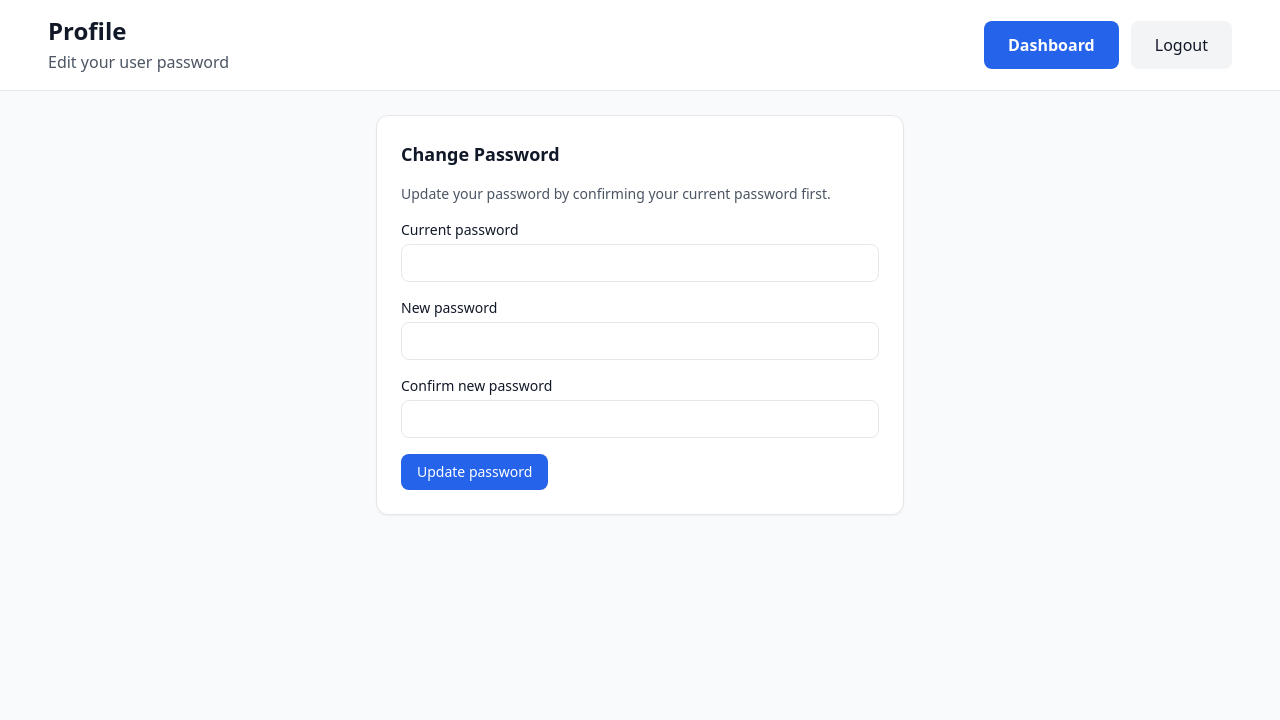
ProfilePage › submits the password change and shows a success message
The width and height of the screenshot is (1280, 720).
Check: the heading "Profile" is shown, box [48,14,126,47]
Type "oldpass" into the 1st password field.
click(640, 263); type("oldpass")  # box [401,244,879,282]
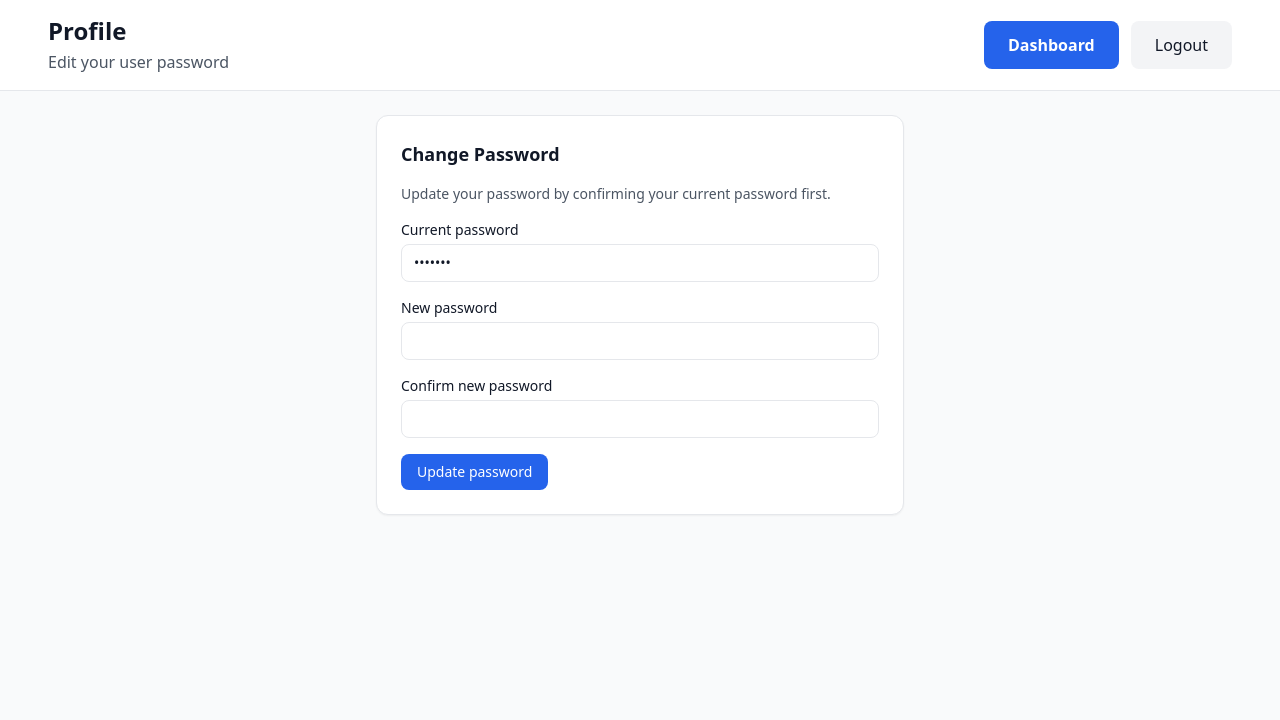
Type "newpassword" into the 2nd password field.
click(640, 341); type("newpassword")  # box [401,322,879,360]
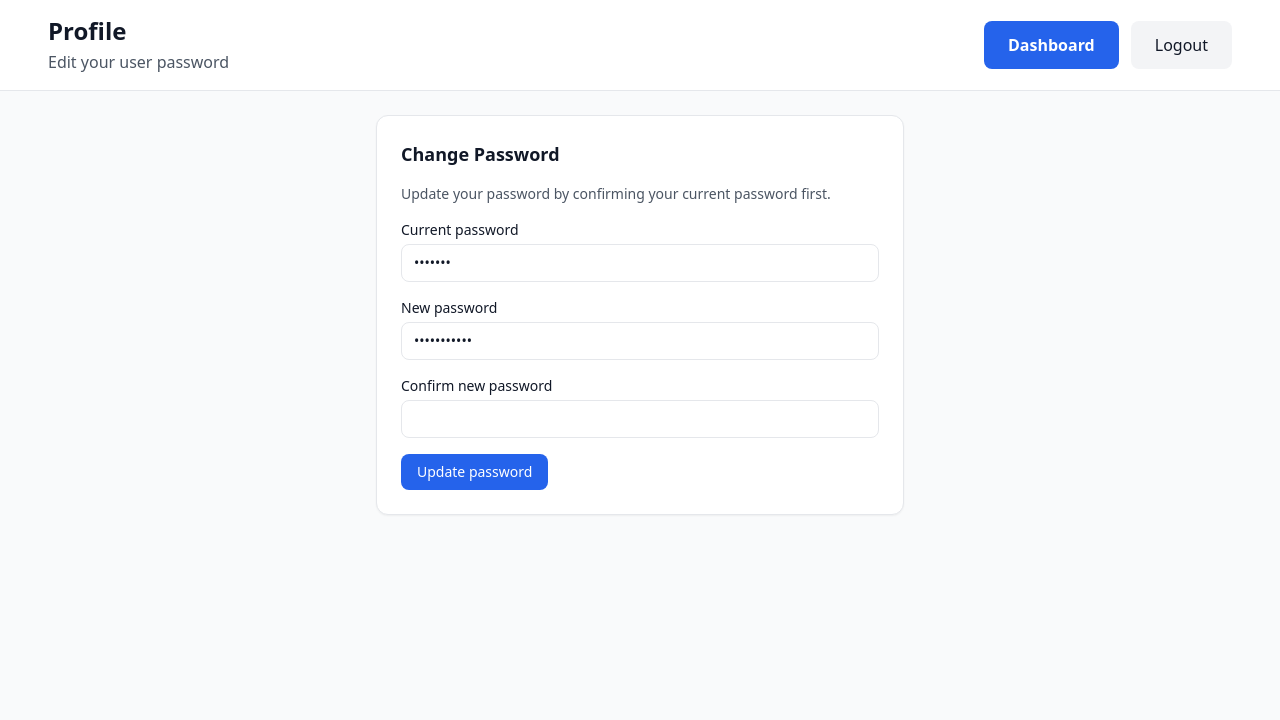
Type "newpassword" into the password field below "Confirm new password".
click(640, 419); type("newpassword")  # box [401,400,879,438]
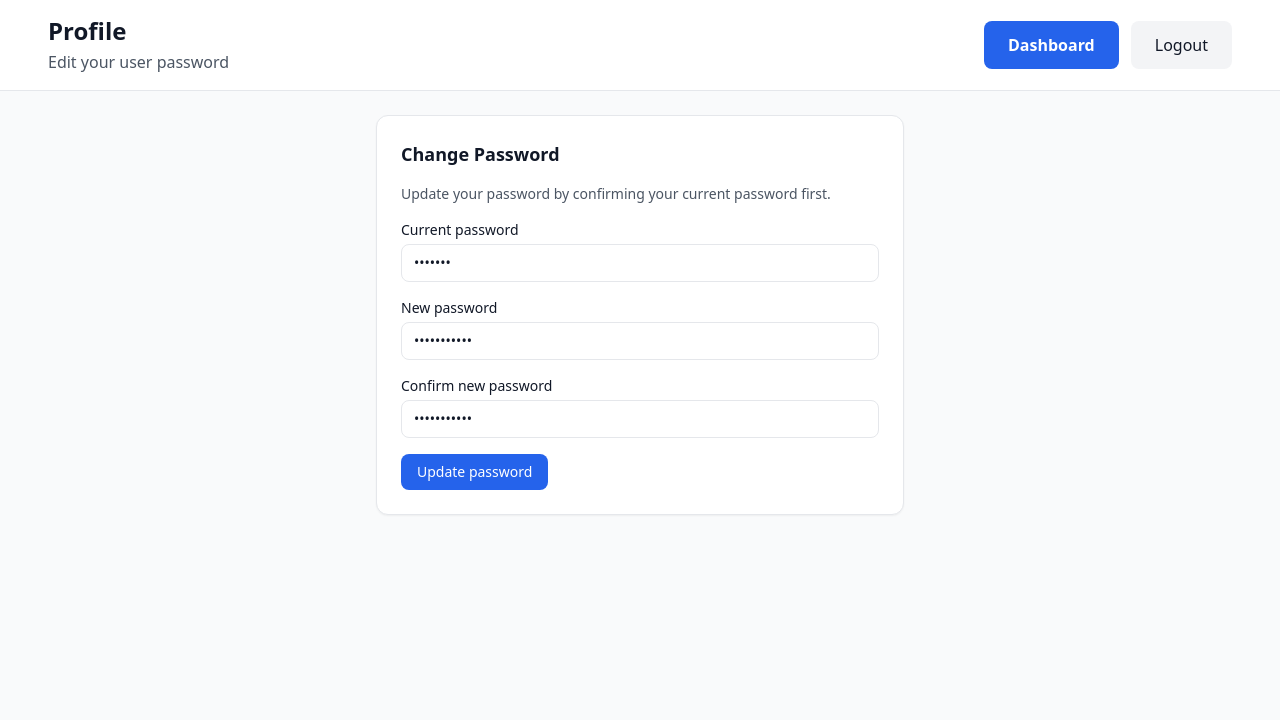
Submit the form, box [401,220,879,490]
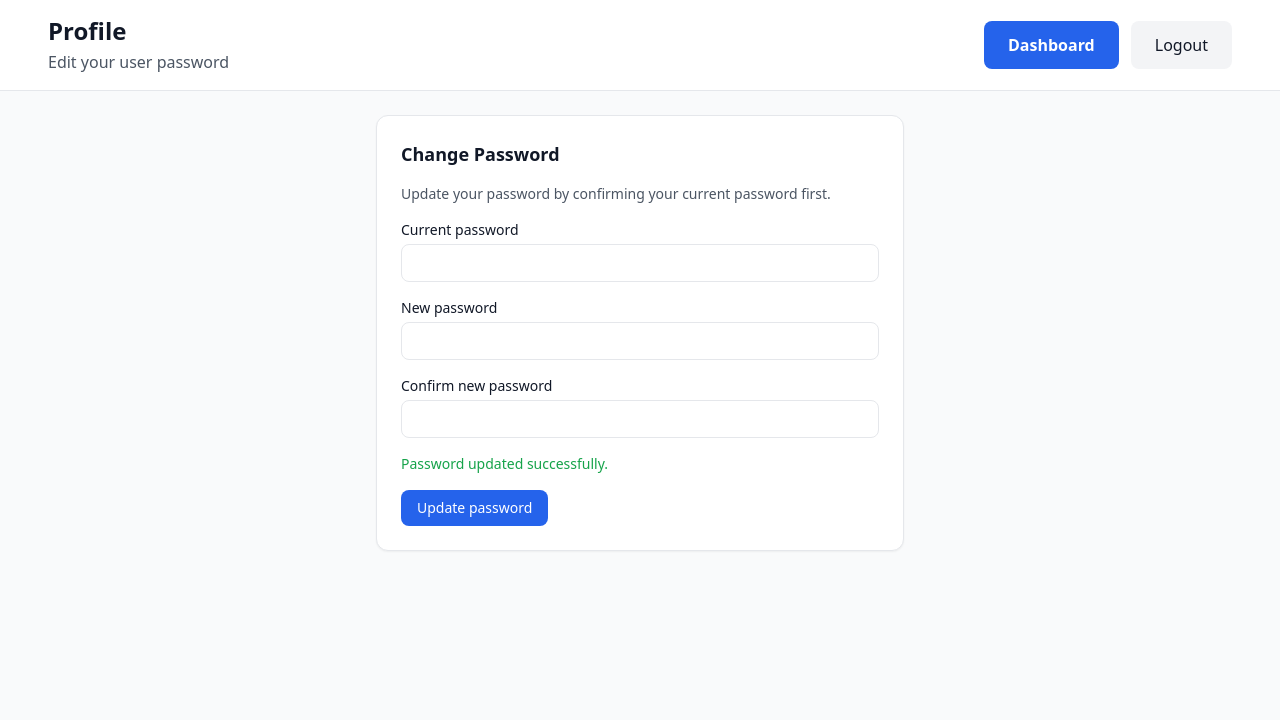
Check: the message reads "Password updated successfully.", box [401,454,608,473]
Check: the 1st password field is empty, box [401,244,879,282]
Check: the 2nd password field is empty, box [401,322,879,360]
